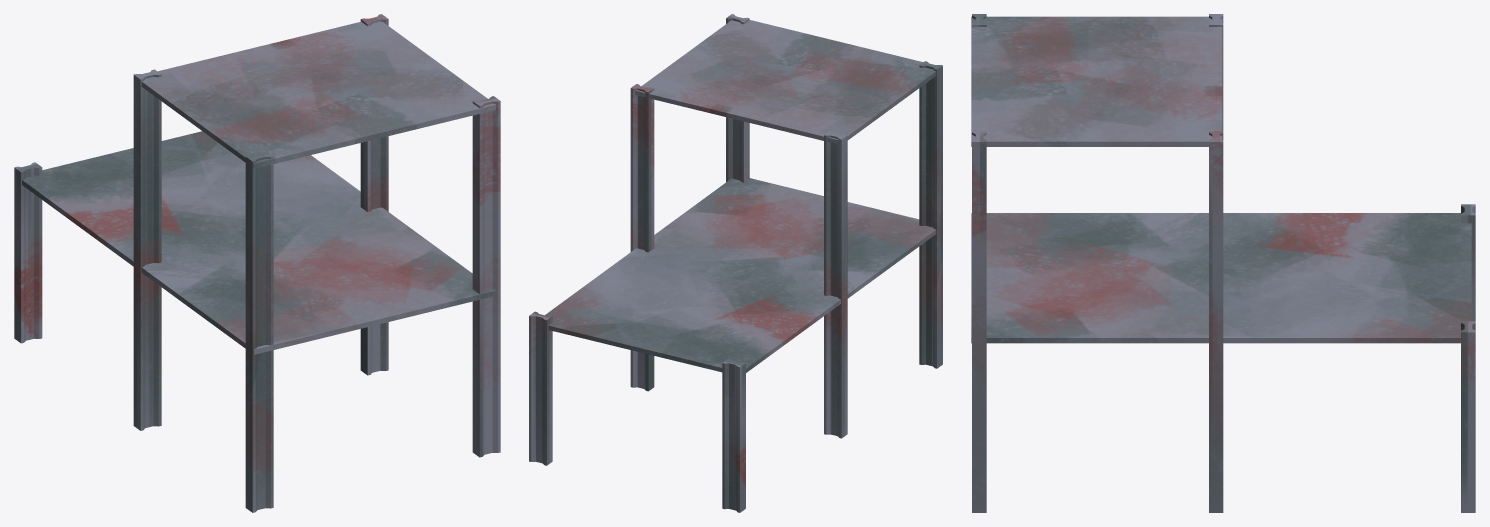
Rendered from CONS2.fbx.
The picture shows the model from 3 angles, left to right: view 1: azimuth 30°, elevation 25°; view 2: azimuth 150°, elevation 25°; view 3: azimuth 270°, elevation 25°; orthographic projection. The views are drawn at different scales.
Visible parts, largest first — view 1: Box049; view 2: Box049; view 3: Box049.
Part boxes in pixels (bbox=[...]): Box049: bbox=[14, 14, 500, 512]; Box049: bbox=[529, 14, 942, 512]; Box049: bbox=[971, 14, 1475, 512].
Bounding box in the file's own units: 618 × 836 × 1030.
